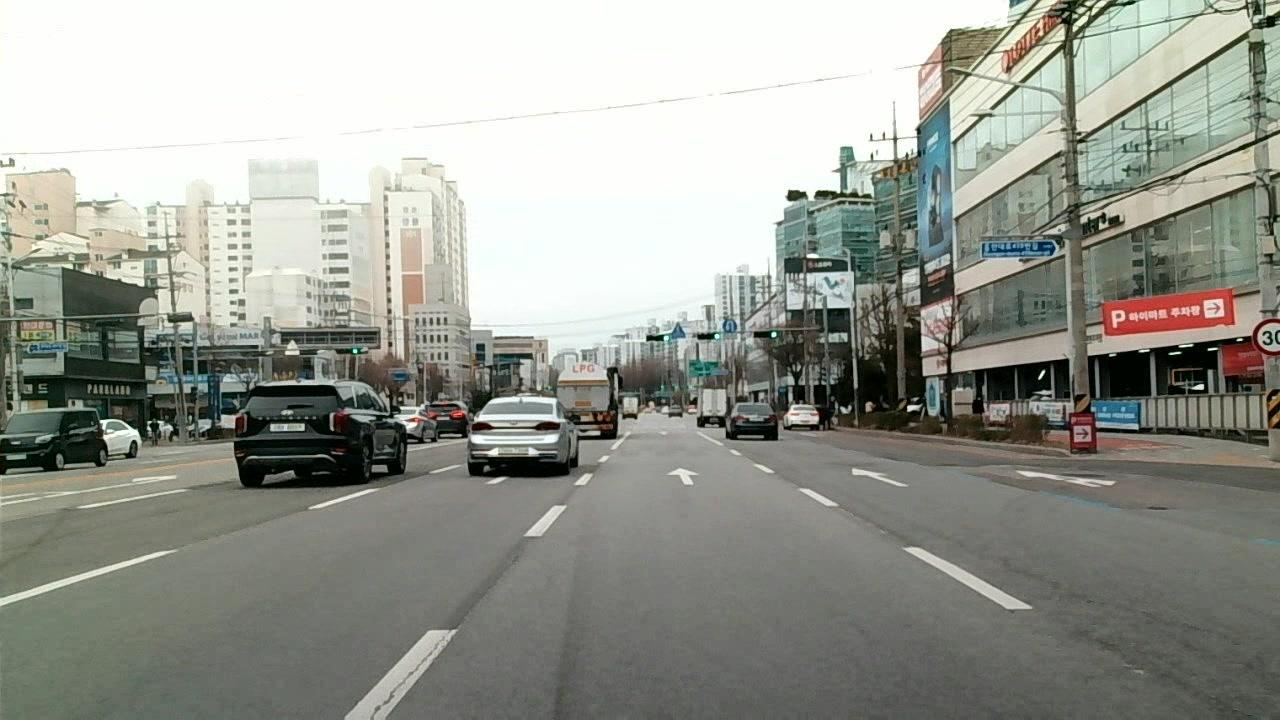vcrack: (362, 630, 451, 718), (464, 543, 533, 623), (985, 557, 1089, 603), (205, 509, 305, 539), (842, 504, 909, 548), (1, 507, 71, 526), (772, 471, 797, 489)
